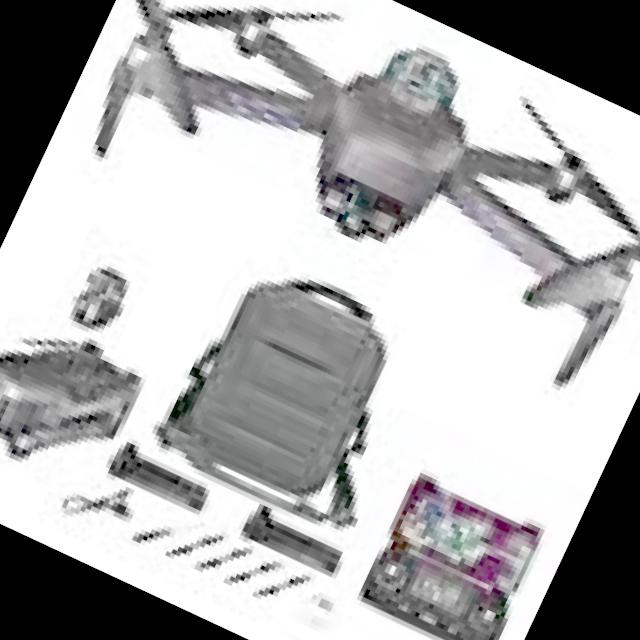drone: (41, 0, 640, 431)
